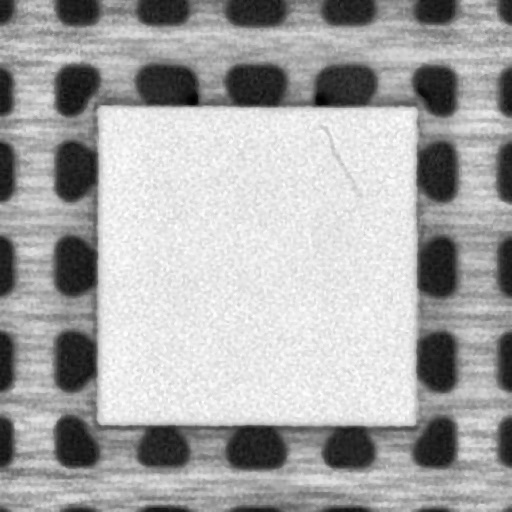DIE_CRACK: (313, 122, 362, 192)
